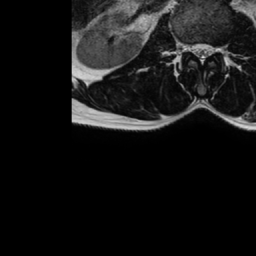CCS_normal: (197, 36, 207, 70)
LFS_normal: (215, 36, 222, 61)
LLS_normal: (207, 36, 215, 62)
RFS_normal: (182, 33, 190, 60)
RLS_normal: (190, 36, 197, 62)
